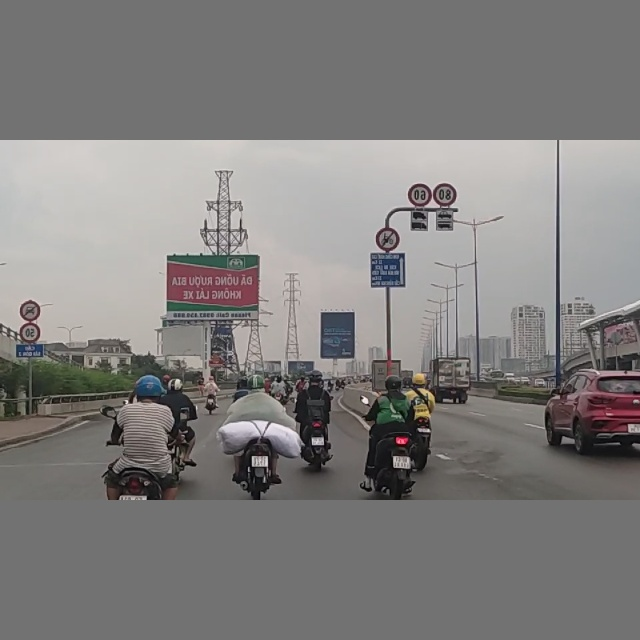P.103a: (20, 300, 40, 321)
P.104: (376, 227, 399, 250)
P.127*50: (20, 324, 41, 344)
P.127*60: (408, 185, 429, 207)
P.127*80: (434, 183, 457, 205)
